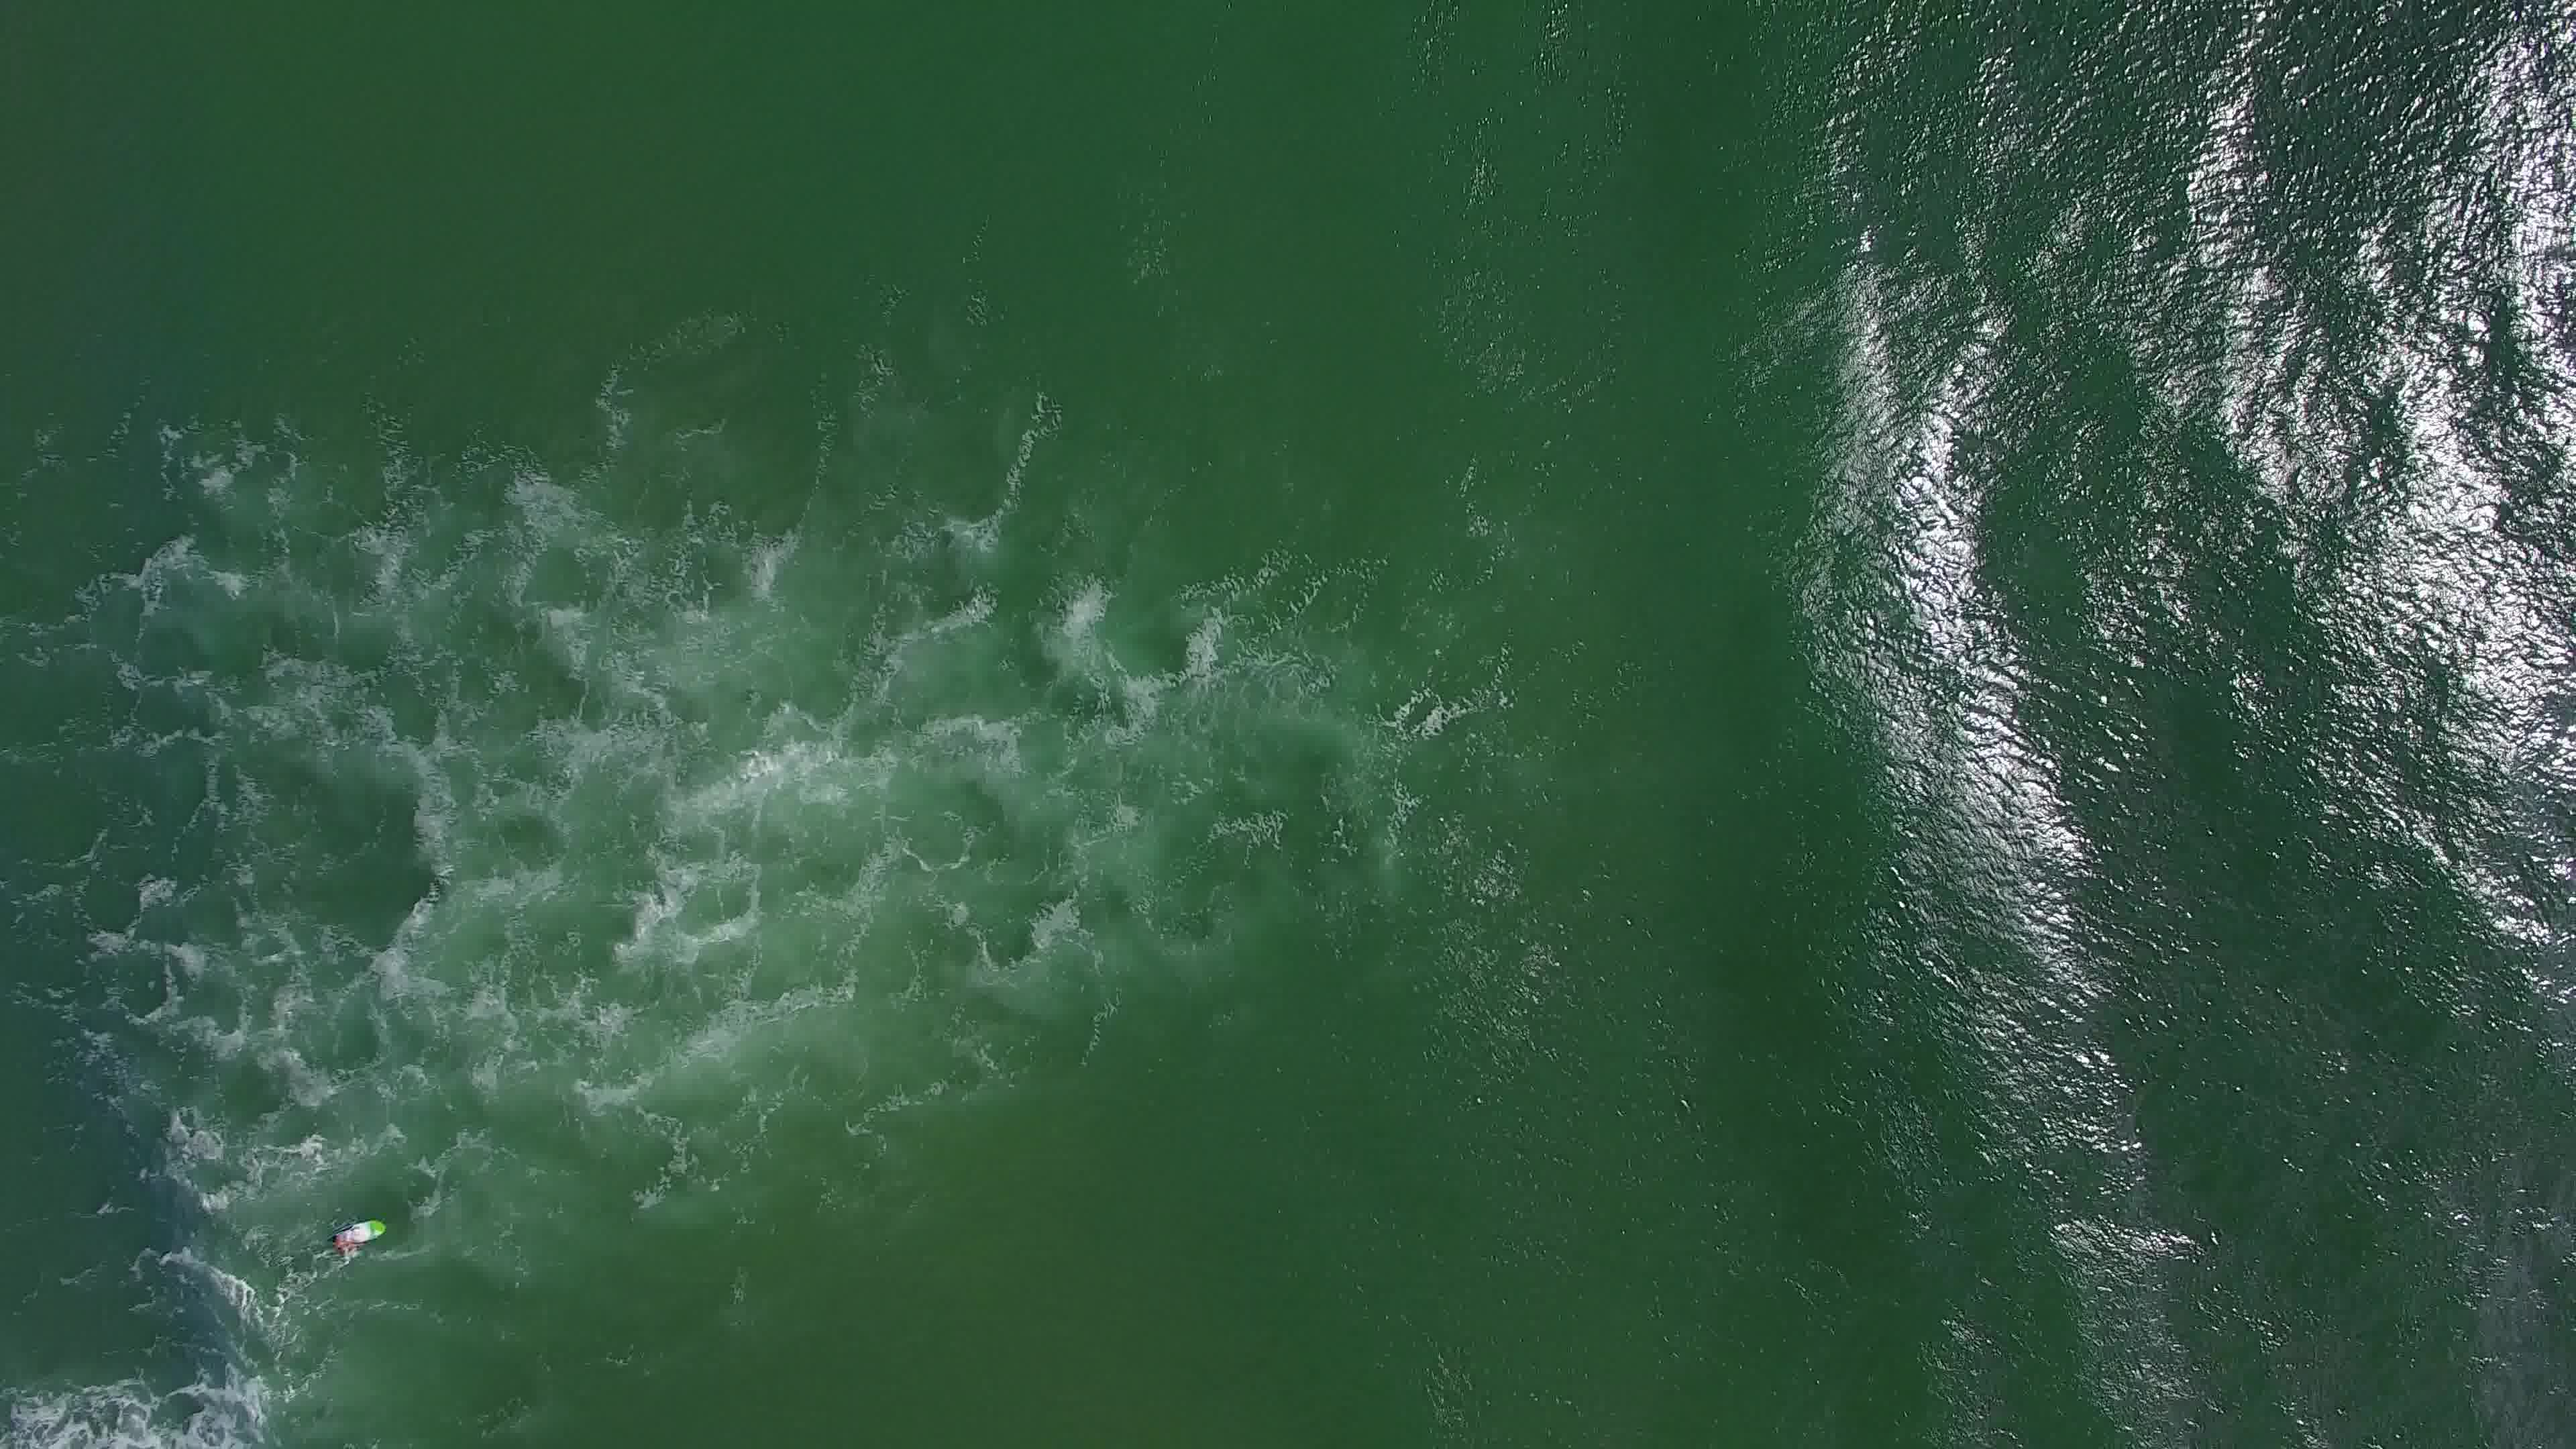surfer: (322, 1210, 391, 1260)
